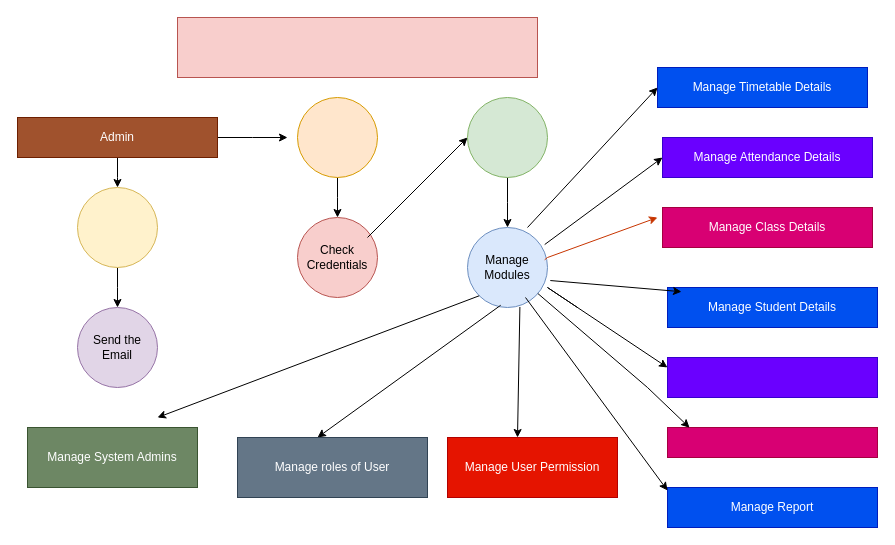
Some shapes in this 895 by 545 pixel diagram are drawn without their labels. Here are the shapes that lost their labels. From the top down, the centre of each, then its label:
At pixel 357 47: "Student Information System".
At pixel 337 137: "Login to System".
At pixel 507 137: "Check Roles Of Access".
At pixel 117 227: "Forget Password".
At pixel 772 377: "Manage Fee Details".
At pixel 772 442: "Manage Teacher Profiles".
